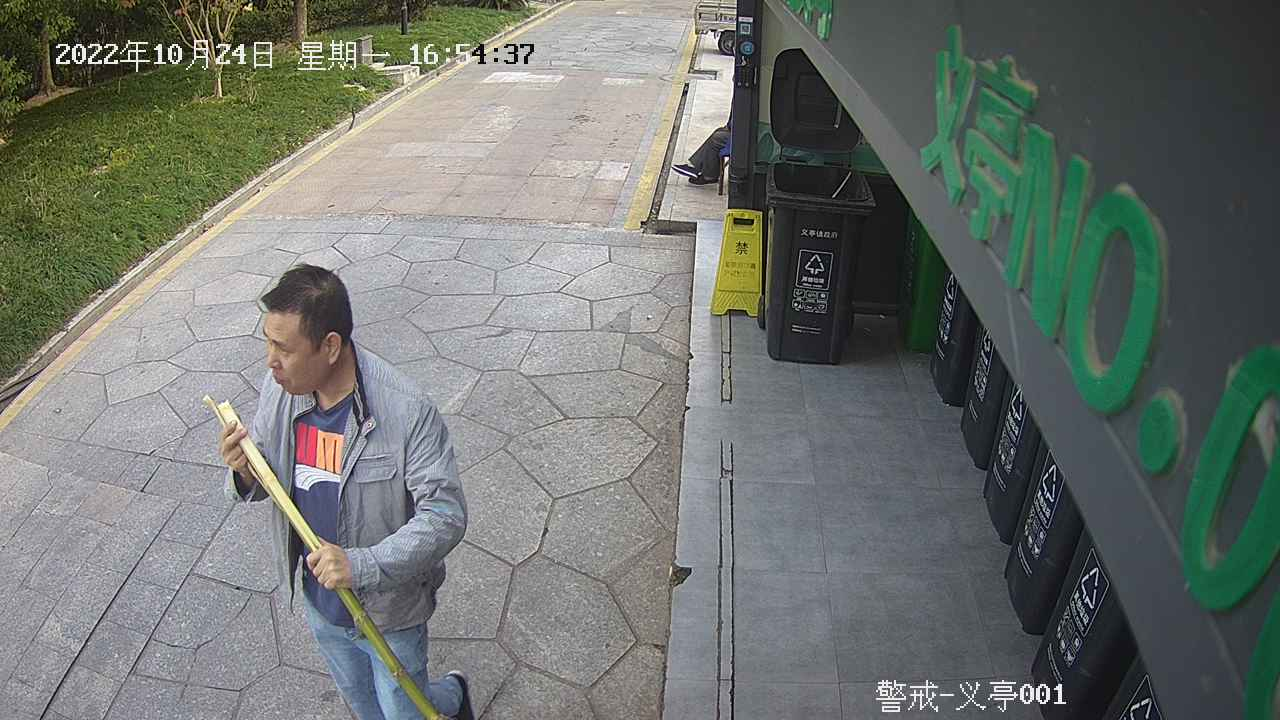person: (201, 257, 480, 720)
